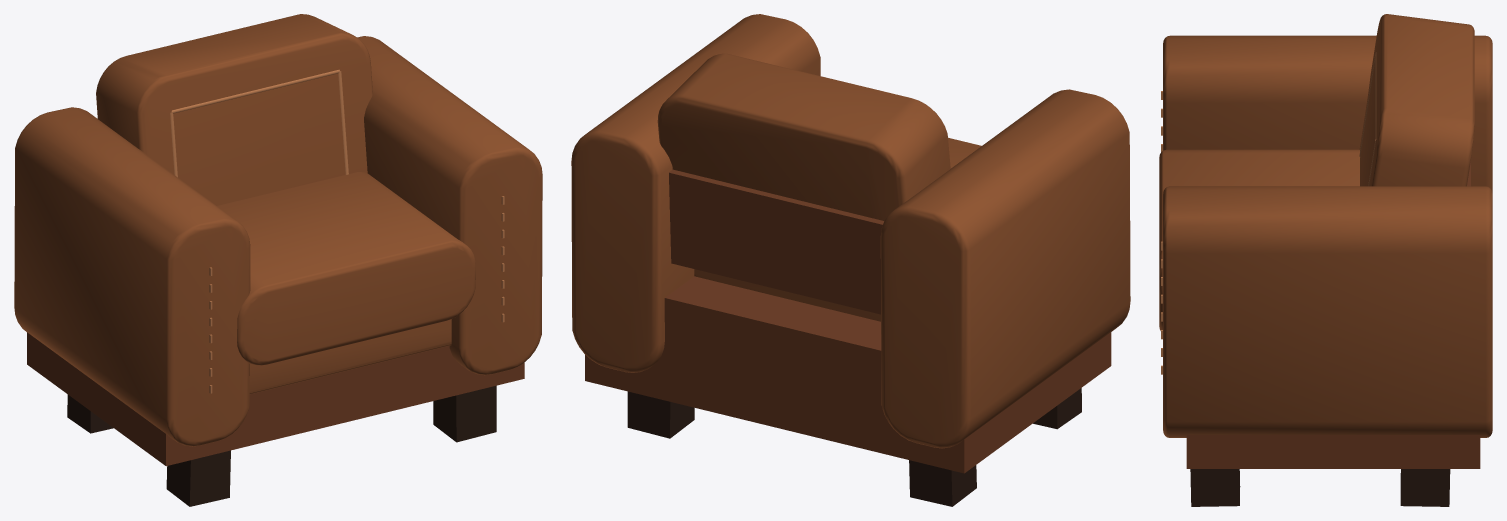
File: cognac-leather-sofa-seatCount-min.glb
The picture shows the model from 3 angles, left to right: view 1: azimuth 30°, elevation 25°; view 2: azimuth 150°, elevation 25°; view 3: azimuth 270°, elevation 25°; orthographic projection. The views are drawn at different scales.
Visible parts, largest first — view 1: sofa-part-28, back-cushion-1-part-0, seat-cushion-1-part-0, sofa-part-7, sofa-part-4, sofa-part-5, sofa-part-2, sofa-part-0, sofa-part-3, back-cushion-1-part-1; view 2: sofa-part-28, sofa-part-4, back-cushion-1-part-0, sofa-part-7, sofa-part-6, sofa-part-3, sofa-part-1, seat-cushion-1-part-0, sofa-part-2; view 3: sofa-part-7, sofa-part-28, back-cushion-1-part-0, sofa-part-4, seat-cushion-1-part-0, sofa-part-1, sofa-part-0.
Boxes of the visible parts, left/top/right/bottom form: sofa-part-28: left=14, top=107, right=250, bottom=446; back-cushion-1-part-0: left=96, top=14, right=372, bottom=205; seat-cushion-1-part-0: left=217, top=172, right=475, bottom=365; sofa-part-7: left=357, top=36, right=542, bottom=375; sofa-part-4: left=27, top=332, right=524, bottom=466; sofa-part-5: left=249, top=319, right=451, bottom=394; sofa-part-2: left=166, top=450, right=230, bottom=506; sofa-part-0: left=433, top=385, right=496, bottom=442; sofa-part-3: left=67, top=394, right=113, bottom=433; back-cushion-1-part-1: left=171, top=69, right=339, bottom=113; sofa-part-28: left=880, top=89, right=1130, bottom=448; sofa-part-4: left=585, top=276, right=1111, bottom=473; back-cushion-1-part-0: left=657, top=53, right=950, bottom=220; sofa-part-7: left=571, top=14, right=820, bottom=372; sofa-part-6: left=669, top=169, right=884, bottom=314; sofa-part-3: left=909, top=460, right=976, bottom=506; sofa-part-1: left=627, top=391, right=694, bottom=438; seat-cushion-1-part-0: left=694, top=137, right=981, bottom=321; sofa-part-2: left=1033, top=388, right=1081, bottom=429; sofa-part-7: left=1163, top=186, right=1492, bottom=437; sofa-part-28: left=1163, top=35, right=1492, bottom=192; back-cushion-1-part-0: left=1359, top=14, right=1474, bottom=186; sofa-part-4: left=1186, top=435, right=1480, bottom=468; seat-cushion-1-part-0: left=1159, top=149, right=1359, bottom=330; sofa-part-1: left=1400, top=469, right=1450, bottom=506; sofa-part-0: left=1190, top=469, right=1240, bottom=506.
Bounding box in the file's own units: 1.22 × 1.08 × 0.886.
